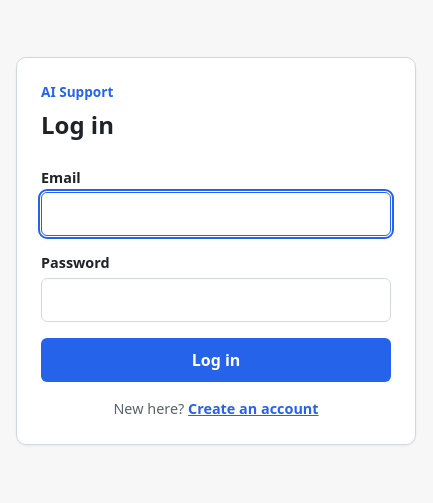
Test: Rate limit messages (BON-02) › BON-02: too many login attempts shows the server’s message
Type "jane@example.com" into the field labelled "Email" at (216, 214), box [41, 192, 391, 236]
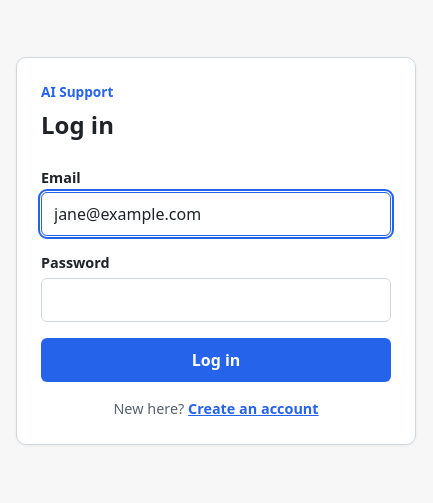
Type "some-password" into the password field labelled "Password" at (216, 300), box [41, 278, 391, 322]
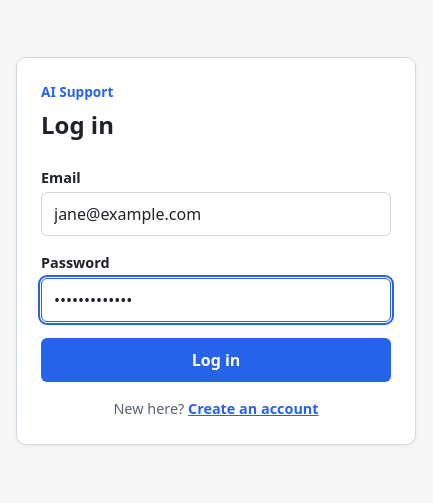
Click the button "Log in" at (216, 360), box [41, 338, 391, 382]
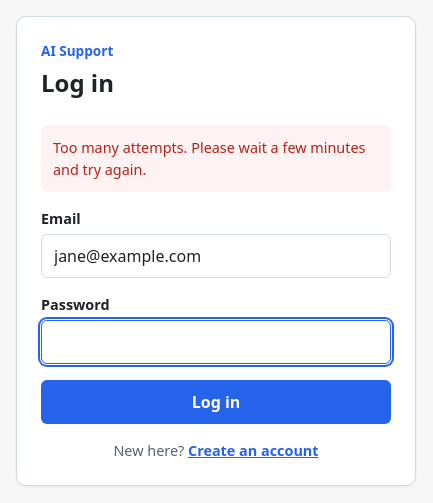
Expected: the message reads "Too many attempts. Please wait a few minutes and try again.", [53, 138, 365, 179]
